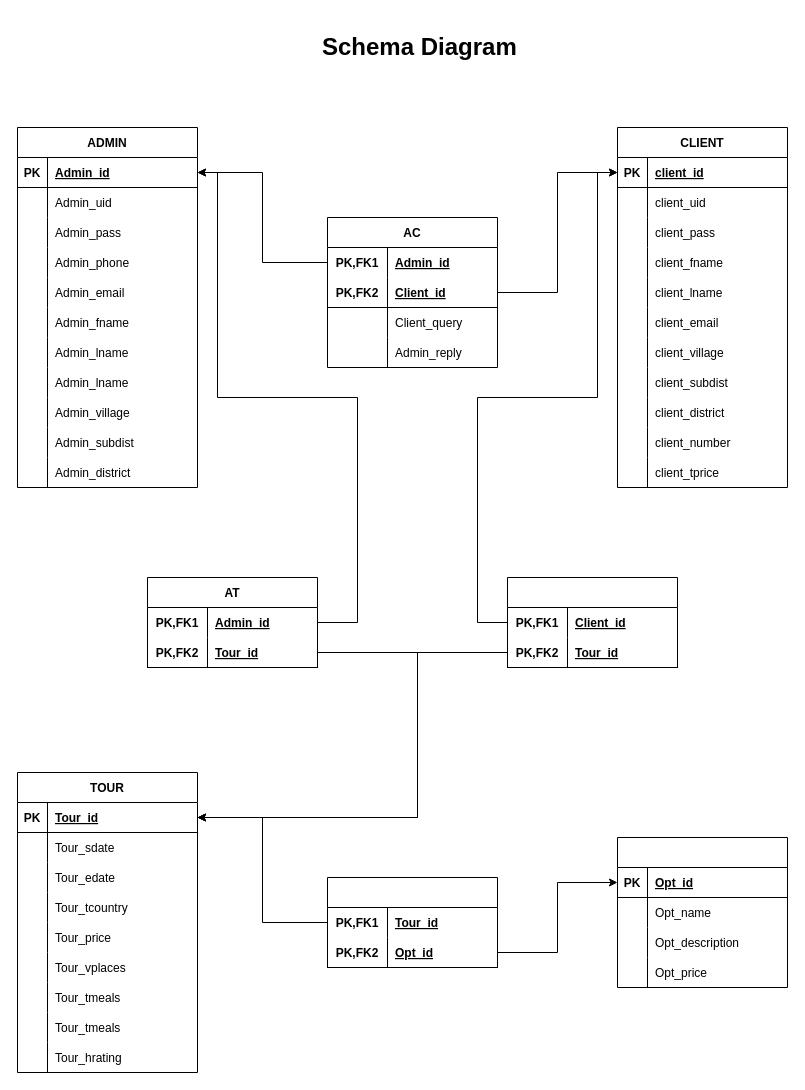
The diagram is 805 pixels wide and 1090 high, and some of its shapes have lost their labels. The shapes that lost their labels are listed below. From the top down, each one's box as (x1, y1, x2, y2) in pixels, then its label:
(506, 576, 678, 668): CT
(326, 876, 498, 968): OT
(616, 836, 788, 988): OPTIONAL_TOUR
